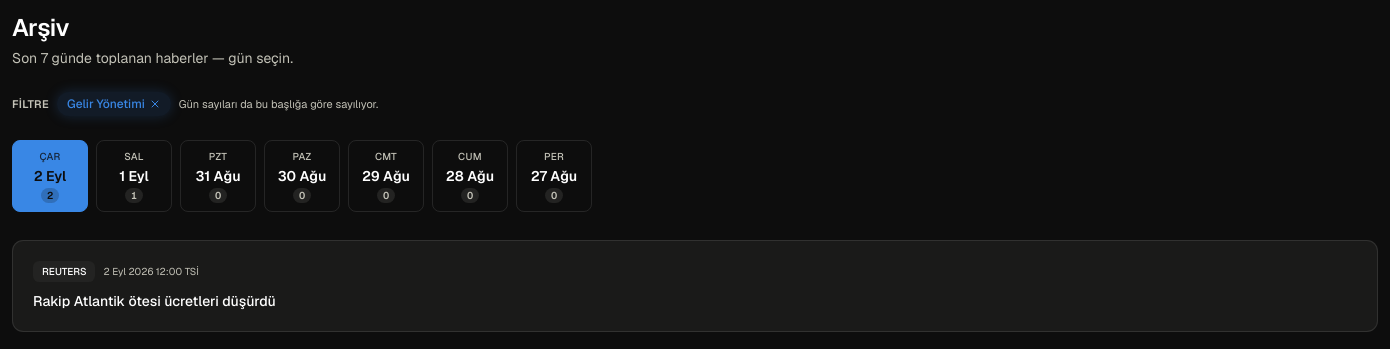
Test case: ArchiveClient › writes the day the reader picks into the URL and keeps the beat
expect the text "Rakip Atlantik ötesi ücretleri düşürdü" is shown: met, box [33,292,276,311]
Step 1. Click the text "1 Eyl" → x=134, y=176, box [119,166,149,186]
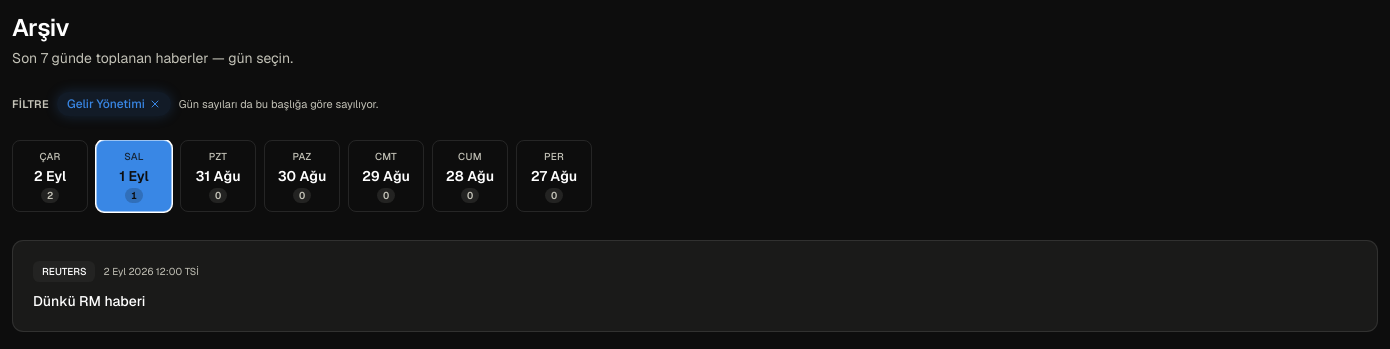
expect the text "Dünkü RM haberi" is shown: met, box [33,292,145,311]
